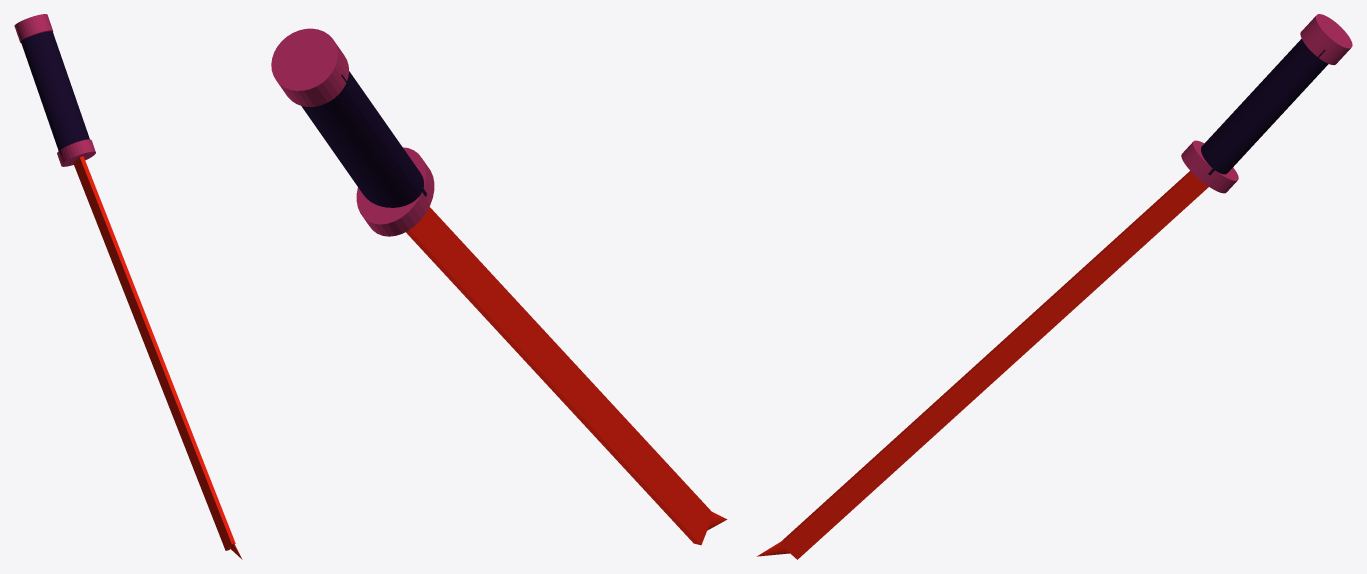
Rendered from katana.obj.
3 renders of one model, left to right at view 1: azimuth 30°, elevation 25°; view 2: azimuth 150°, elevation 25°; view 3: azimuth 270°, elevation 25°, orthographic. The views are drawn at different scales.
Parts seen in each view (by area): view 1: Cone; view 2: Cone; view 3: Cone.
Boxes of the visible parts, x1,y1,x2,y2 form: Cone: [14, 14, 242, 559]; Cone: [271, 28, 727, 545]; Cone: [757, 14, 1352, 559].
Size of the model in its own units: 0.4 by 4.98 by 4.97.
